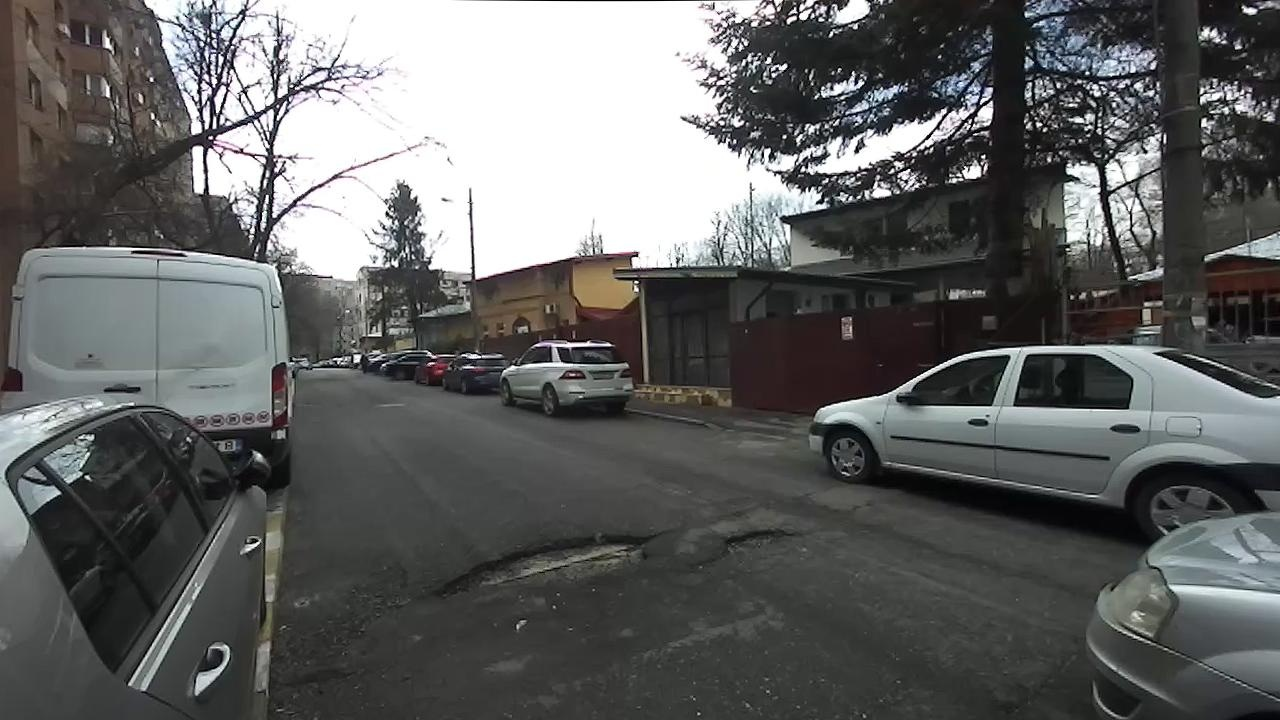pothole: (420, 529, 659, 607), (684, 524, 803, 576)
